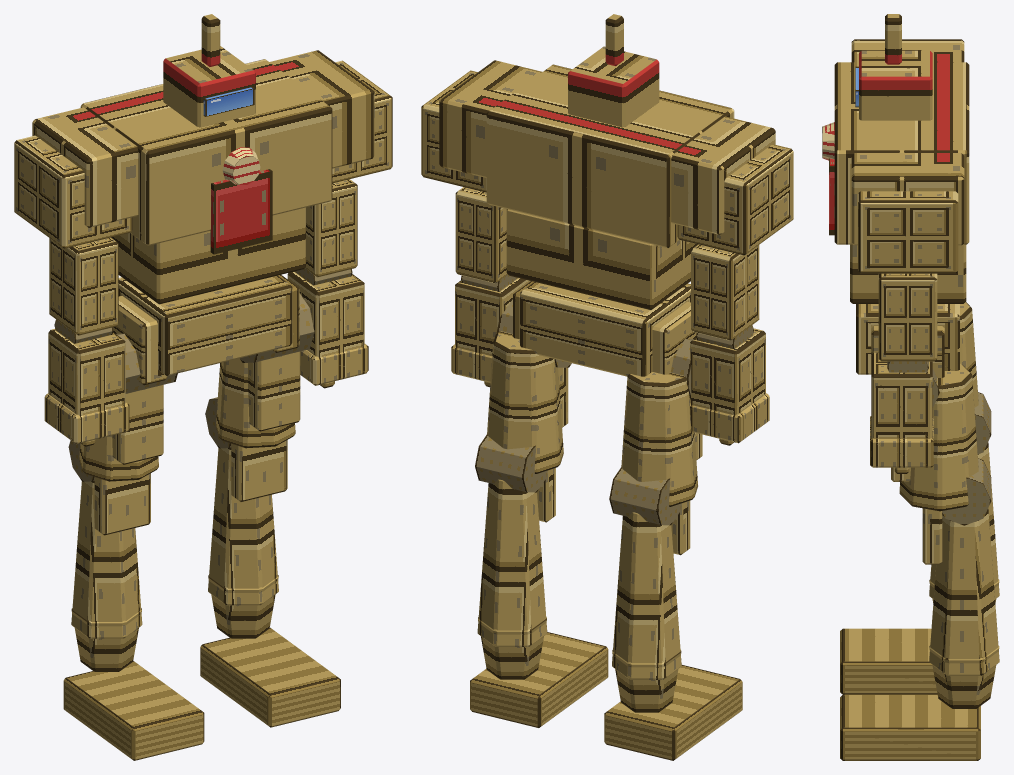
File: mech_crusader.glb
The picture shows the model from 3 angles, left to right: view 1: azimuth 30°, elevation 25°; view 2: azimuth 150°, elevation 25°; view 3: azimuth 270°, elevation 25°; orthographic projection.
Visible parts, largest first — view 1: Torso-head, root_Pelvis, L_shin, R_shin, R_foot, L_foot, R_forearm, L_thigh, R_shoulder, L_forearm, R_upper_arm, R_thigh (+7 smaller); view 2: Torso-head, root_Pelvis, R_shin, L_shin, L_thigh, R_thigh, L_foot, R_foot, R_forearm, R_shoulder, R_upper_arm, L_forearm (+5 smaller); view 3: Torso-head, L_shin, L_foot, L_shoulder, L_thigh, L_forearm, R_foot, L_upper_arm, root_Pelvis, L_back_knee, R_thigh, R_shin (+4 smaller).
Boxes of the visible parts, <box> form: Torso-head: <box>32,14,374,304</box>; root_Pelvis: <box>113,275,299,385</box>; L_shin: <box>208,440,287,638</box>; R_shin: <box>71,473,150,671</box>; R_foot: <box>63,661,204,760</box>; L_foot: <box>200,627,340,727</box>; R_forearm: <box>44,329,129,446</box>; L_thigh: <box>216,351,300,448</box>; R_shoulder: <box>14,135,132,248</box>; L_forearm: <box>287,271,368,388</box>; R_upper_arm: <box>49,237,118,335</box>; R_thigh: <box>79,385,163,481</box>; Torso-head: <box>439,14,775,309</box>; root_Pelvis: <box>513,281,696,376</box>; R_shin: <box>612,500,690,712</box>; L_shin: <box>477,468,555,679</box>; L_thigh: <box>487,331,568,473</box>; R_thigh: <box>621,372,702,506</box>; L_foot: <box>470,632,608,727</box>; R_foot: <box>604,665,742,760</box>; R_forearm: <box>690,328,769,445</box>; R_shoulder: <box>677,144,793,255</box>; R_upper_arm: <box>691,244,759,340</box>; L_forearm: <box>451,278,530,387</box>; Torso-head: <box>834,14,969,303</box>; L_shin: <box>922,508,999,708</box>; L_foot: <box>840,694,980,760</box>; L_shoulder: <box>858,191,958,273</box>; L_thigh: <box>891,363,978,511</box>; L_forearm: <box>870,352,933,473</box>; R_foot: <box>840,628,937,694</box>; L_upper_arm: <box>878,273,937,361</box>; root_Pelvis: <box>856,304,959,377</box>; L_back_knee: <box>942,458,991,525</box>; R_thigh: <box>960,302,978,407</box>; R_shin: <box>929,442,999,603</box>.
Size of the model in its own units: 18.6 by 37.62 by 8.69.
1 material, 1 textured.
